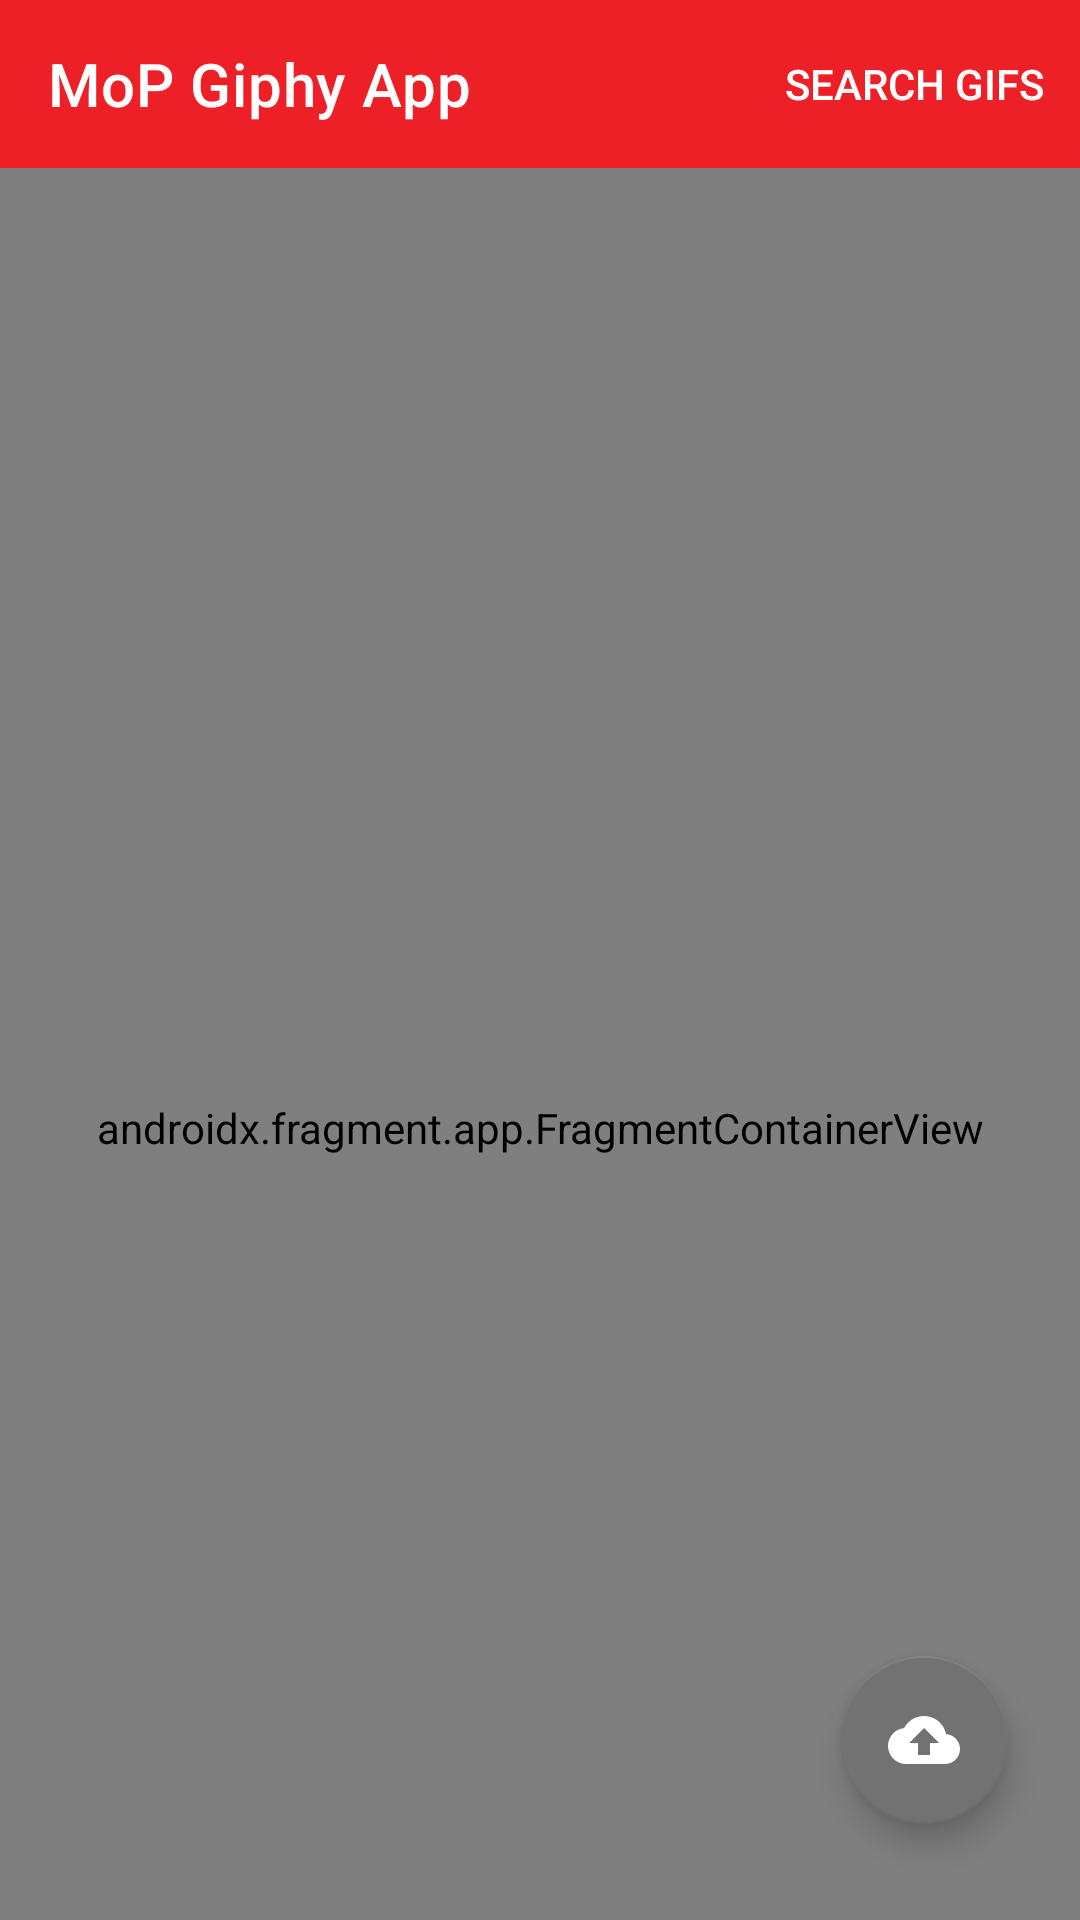

Icon bounding boxes for this 1080x1920 phone screenshot, format (x1, y1, x2, y2):
upload: (888, 1716, 960, 1764)
